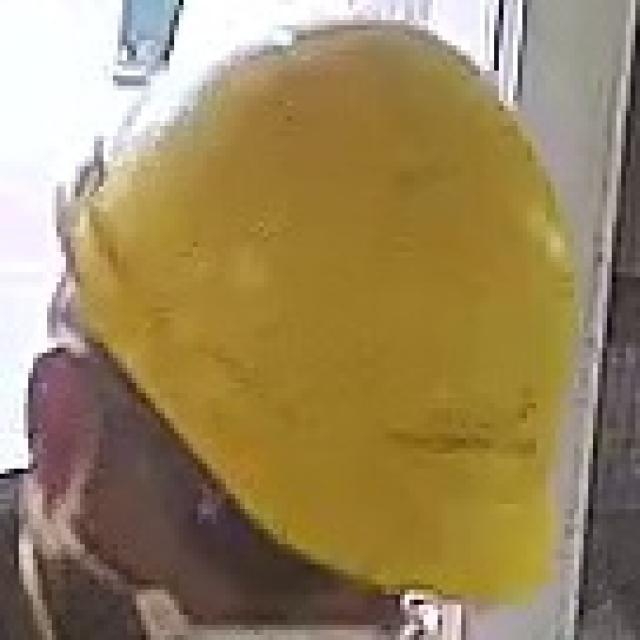yellow helmet: (52, 18, 574, 600)
